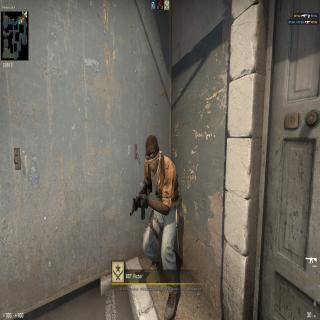T-Head: (143, 132, 162, 175)
